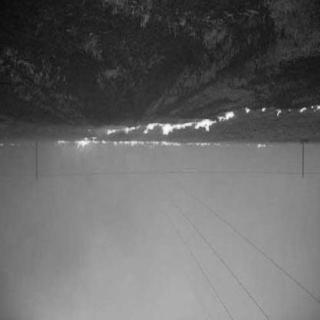Fire: (56, 133, 270, 164), (103, 107, 243, 139), (245, 103, 319, 121)
